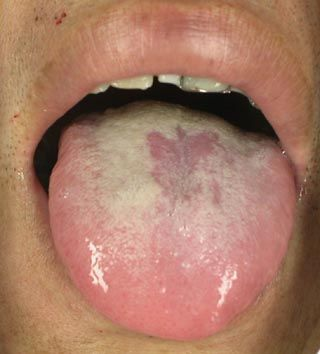botaishe: (143, 119, 230, 222)
huangtaishe: (48, 100, 294, 340)
